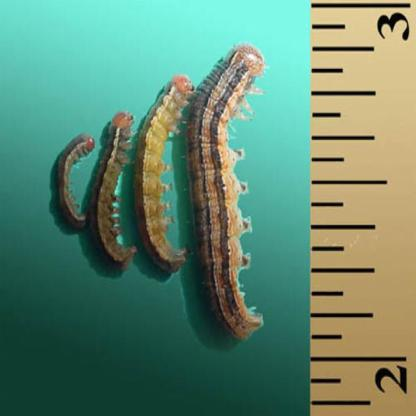armyworm: (186, 35, 268, 346), (133, 72, 195, 271), (88, 111, 138, 272), (50, 124, 95, 242)
